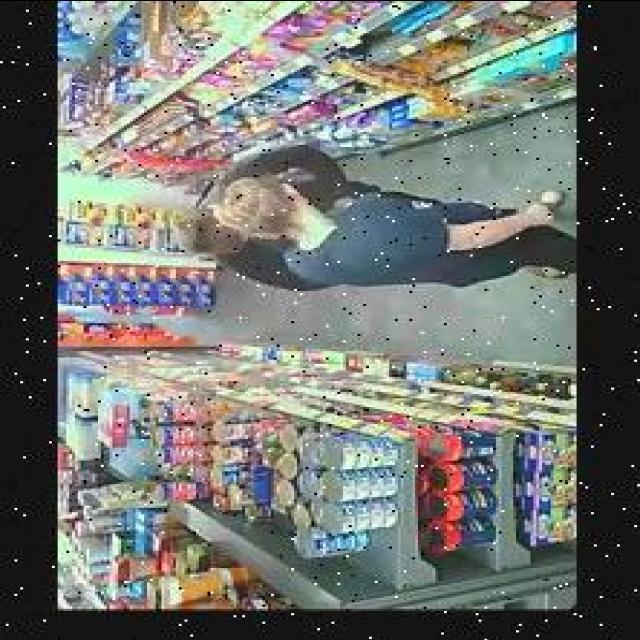Shoplifting: (168, 132, 581, 336)
